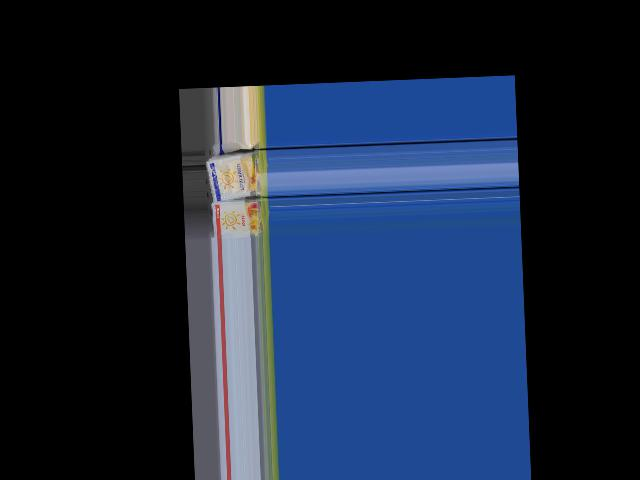cheese: (208, 199, 270, 240)
